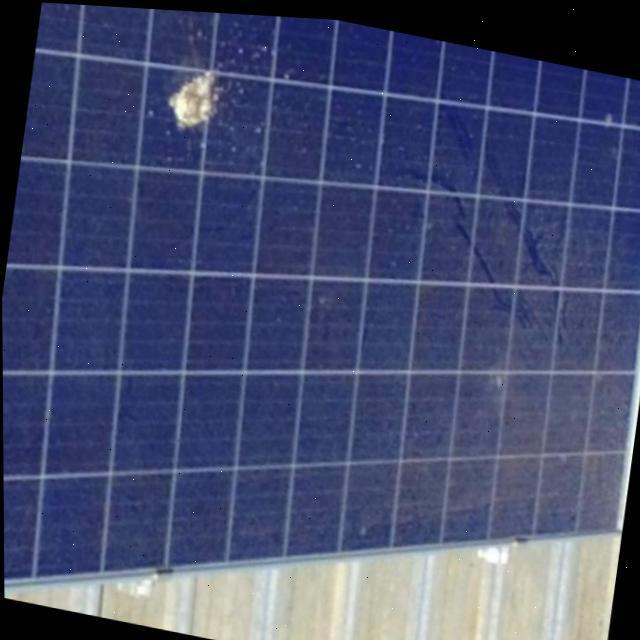Surface Contaminant: (2, 2, 640, 572), (165, 44, 235, 142)
